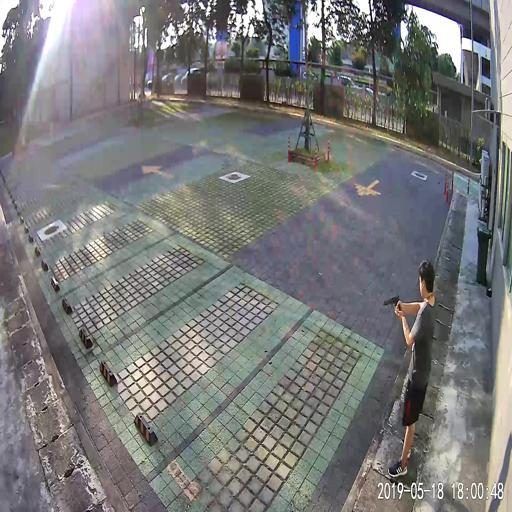Handgun: (381, 291, 401, 316)
